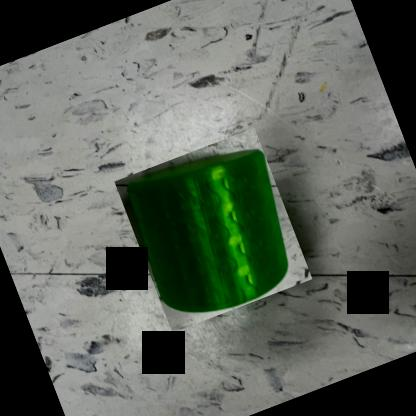green cylinder: (114, 127, 312, 332)
